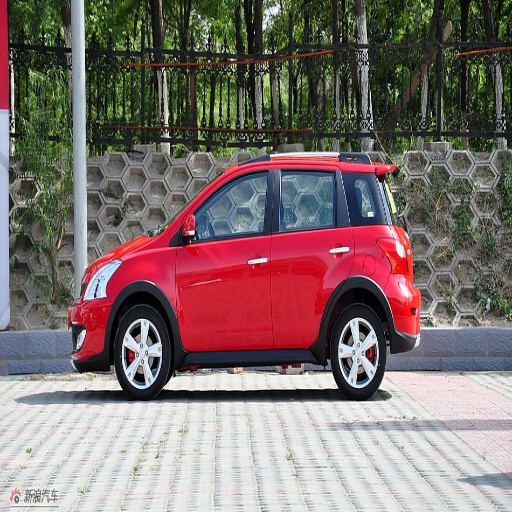back_left_door: (270, 165, 354, 344)
front_left_door: (176, 165, 276, 348)
